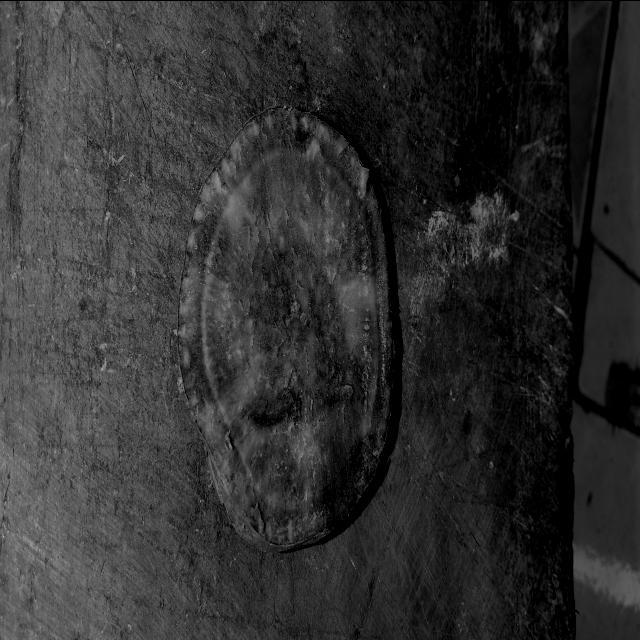Sick Sweet Potato_Tuber Rot: (178, 107, 394, 549)
